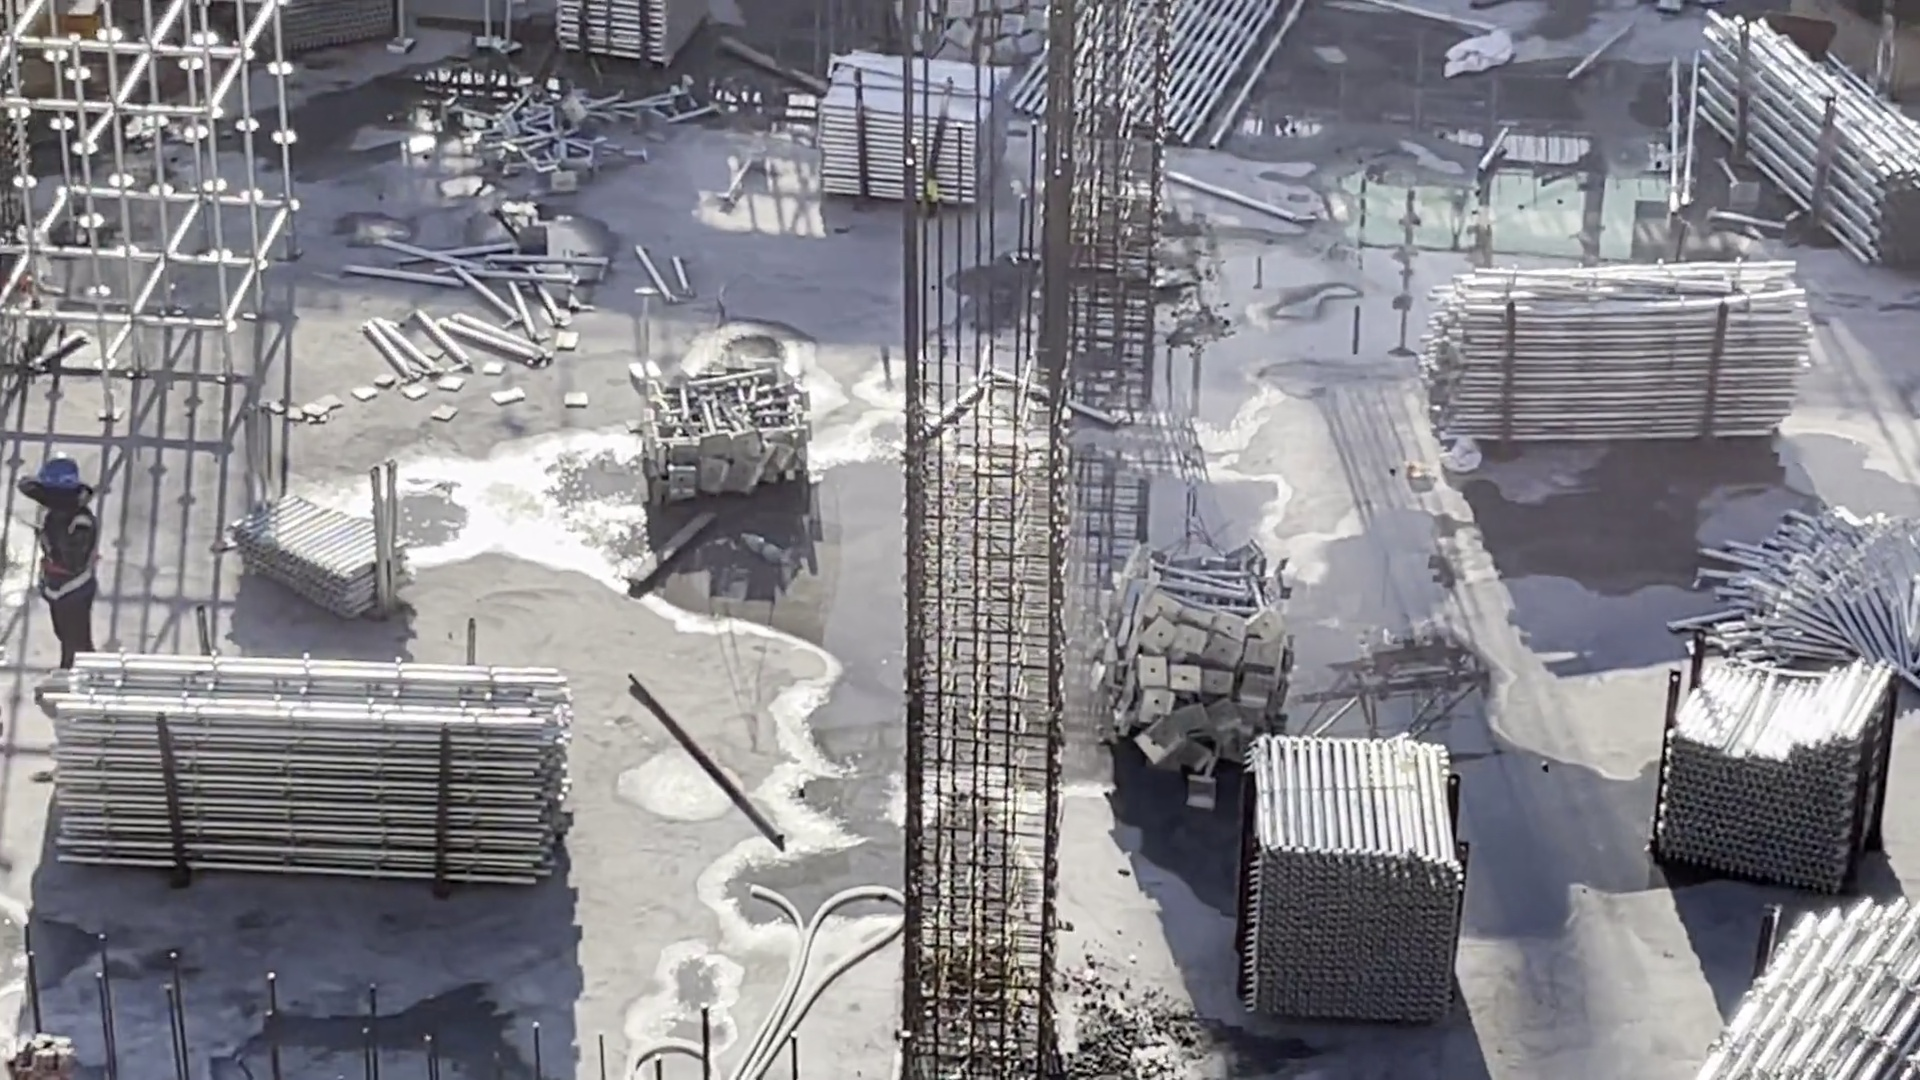person: (18, 449, 110, 685)
scaffold: (45, 659, 587, 897), (1410, 265, 1813, 459), (1243, 732, 1469, 1012), (1661, 645, 1896, 874), (1700, 11, 1920, 246), (1118, 545, 1313, 795), (1686, 885, 1917, 1080), (1716, 516, 1920, 650), (821, 59, 994, 208), (642, 359, 805, 487), (247, 494, 399, 611), (514, 84, 657, 171), (903, 1, 1072, 65), (581, 1, 718, 60)
vest: (27, 511, 99, 594)
